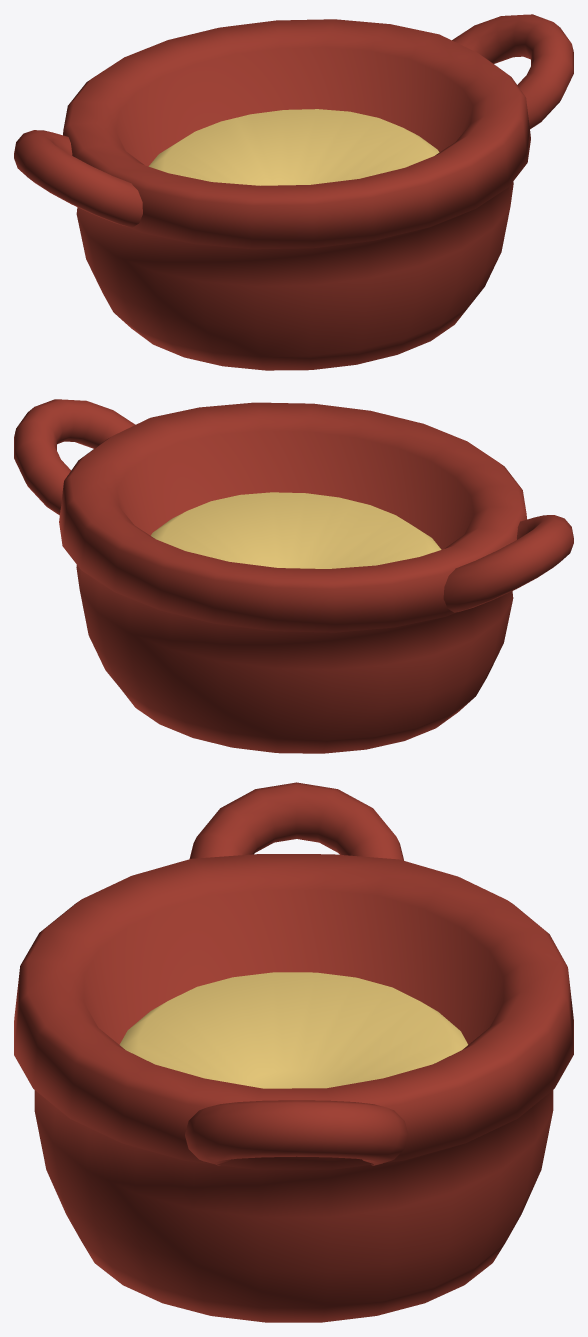
Rendered from basket2_low.fbx.
3 renders of one model, top to bottom at view 1: azimuth 30°, elevation 25°; view 2: azimuth 150°, elevation 25°; view 3: azimuth 270°, elevation 25°, orthographic. The views are drawn at different scales.
Visible parts, largest first — view 1: M_basket_high; view 2: M_basket_high; view 3: M_basket_high.
Part boxes in pixels (x1,y1,x2,y2): M_basket_high: (14,14,573,370); M_basket_high: (14,399,573,753); M_basket_high: (14,782,573,1322).
Size of the model in its own units: 66.64 by 25.6 by 46.14.
